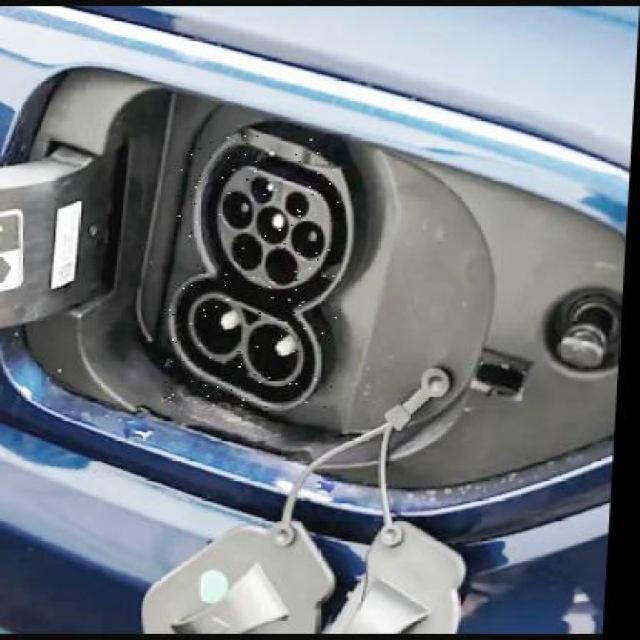CCS2: (155, 123, 371, 434)
